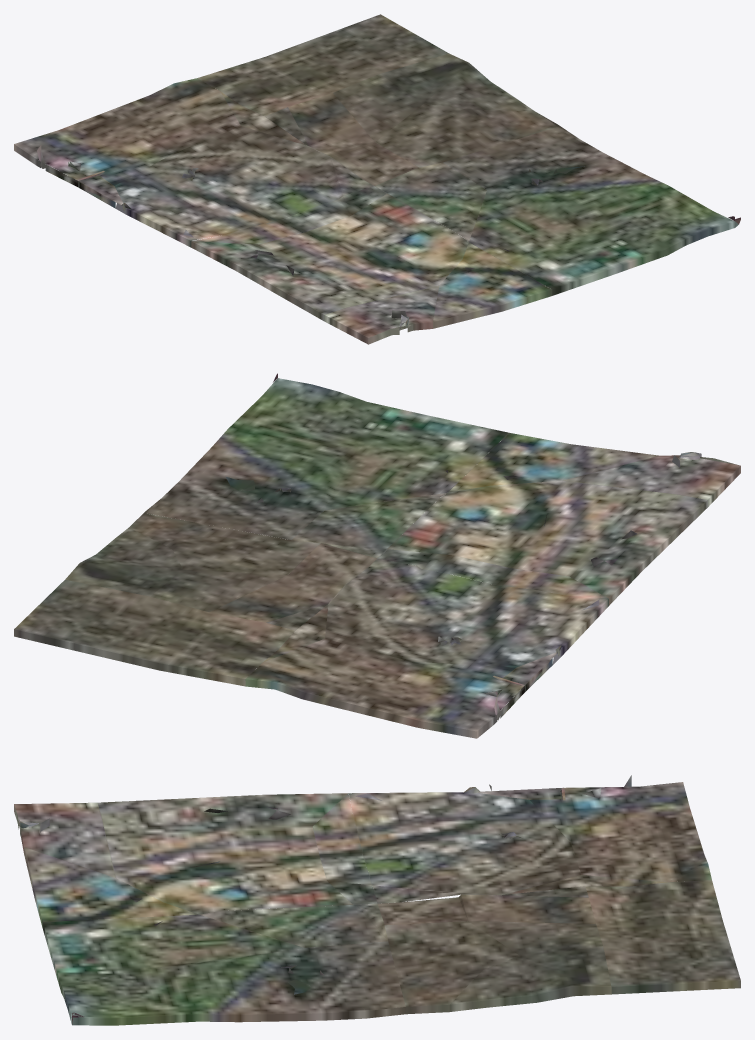
3 renders of one model, top to bottom at view 1: azimuth 30°, elevation 25°; view 2: azimuth 150°, elevation 25°; view 3: azimuth 270°, elevation 25°, orthographic. The views are drawn at different scales.
Parts seen in each view (by area): view 1: Mesh_0; view 2: Mesh_0; view 3: Mesh_0.
Part boxes in pixels (box(x1,y1,x2,y2)): Mesh_0: box(14, 14, 740, 344); Mesh_0: box(14, 373, 740, 738); Mesh_0: box(14, 775, 740, 1025).
Size of the model in its own units: 2158 by 119 by 2635.
Materials: 1 (1 with a texture image).
